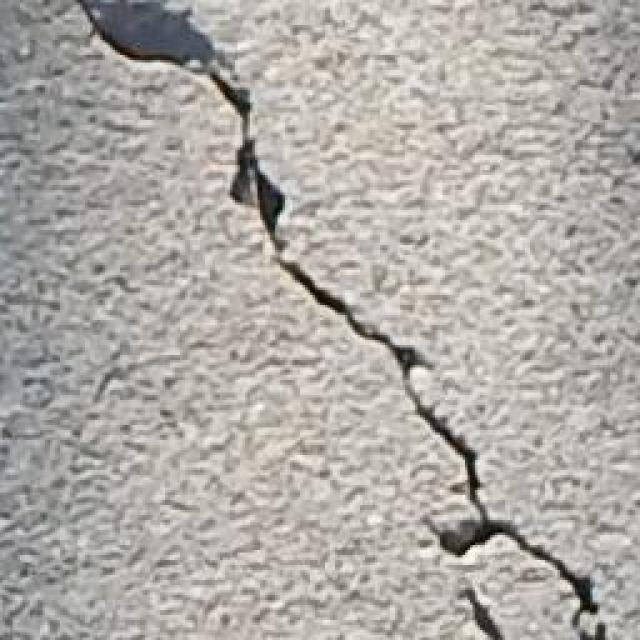concrete-crack: (66, 0, 618, 637), (459, 588, 503, 638)
